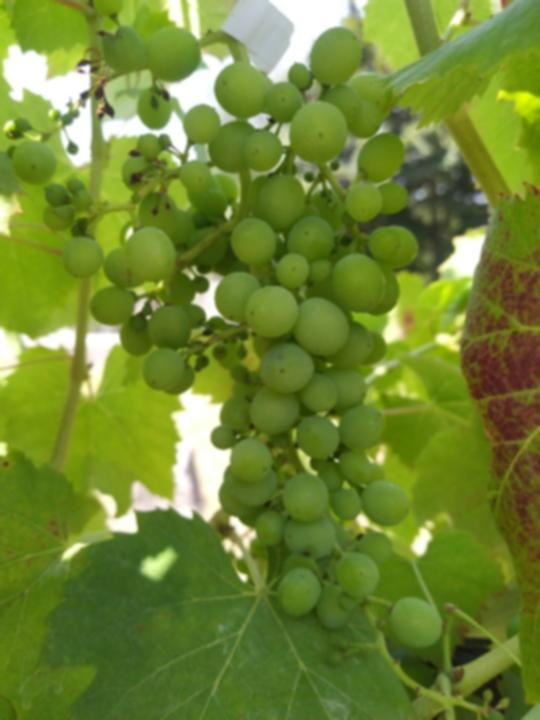grape: (8, 26, 445, 655)
